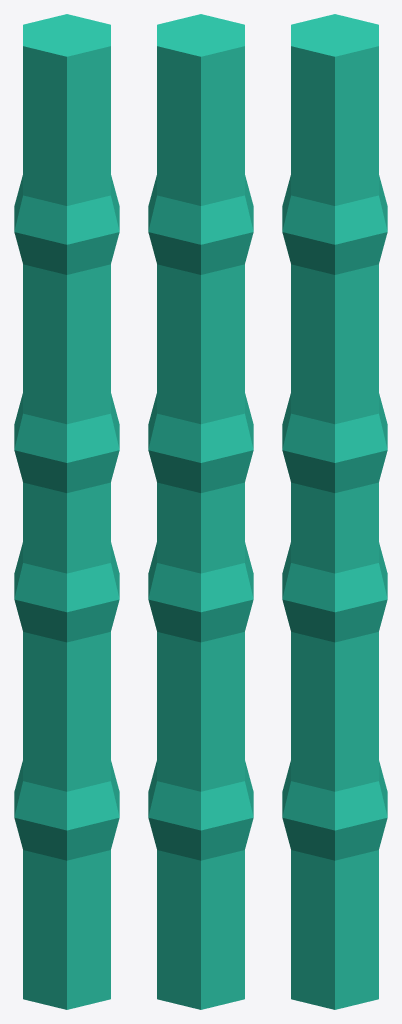
File: bamboo.fbx
The picture shows the model from 3 angles, left to right: view 1: azimuth 90°, elevation 25°; view 2: azimuth 150°, elevation 25°; view 3: azimuth 270°, elevation 25°; orthographic projection.
Parts seen in each view (by area): view 1: crops_bambooStageB; view 2: crops_bambooStageB; view 3: crops_bambooStageB.
Boxes of the visible parts, bbox=[...] form: crops_bambooStageB: bbox=[14, 14, 119, 1009]; crops_bambooStageB: bbox=[148, 14, 253, 1009]; crops_bambooStageB: bbox=[282, 14, 387, 1009].
Bounding box in the file's own units: 9.6 × 8.31 × 83.
